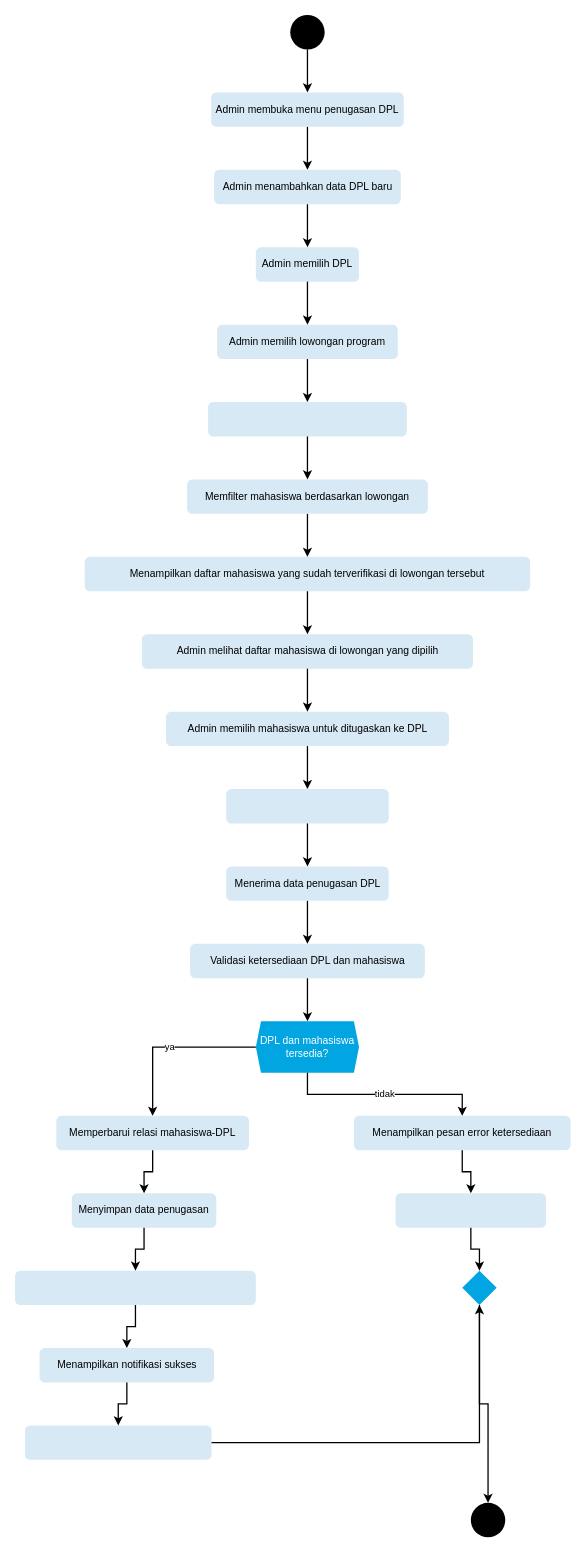
Image size: 585x1551. Some labels were removed from this diagram. The shapes that lost their labels are listed below. From the top down, each one's box as (x1, y1, x2, y2) in pixels, then its label:
(290, 15, 324, 49): Start
(208, 402, 406, 436): Mengambil detail DPL yang dipilih
(226, 789, 388, 823): Admin menekan tombol simpan
(395, 1193, 546, 1227): Admin melihat pesan error
(15, 1270, 255, 1305): Mengirim notifikasi ke mahasiswa dan DPL
(25, 1425, 211, 1459): Admin melihat konfirmasi sukses
(470, 1502, 505, 1537): Stop
